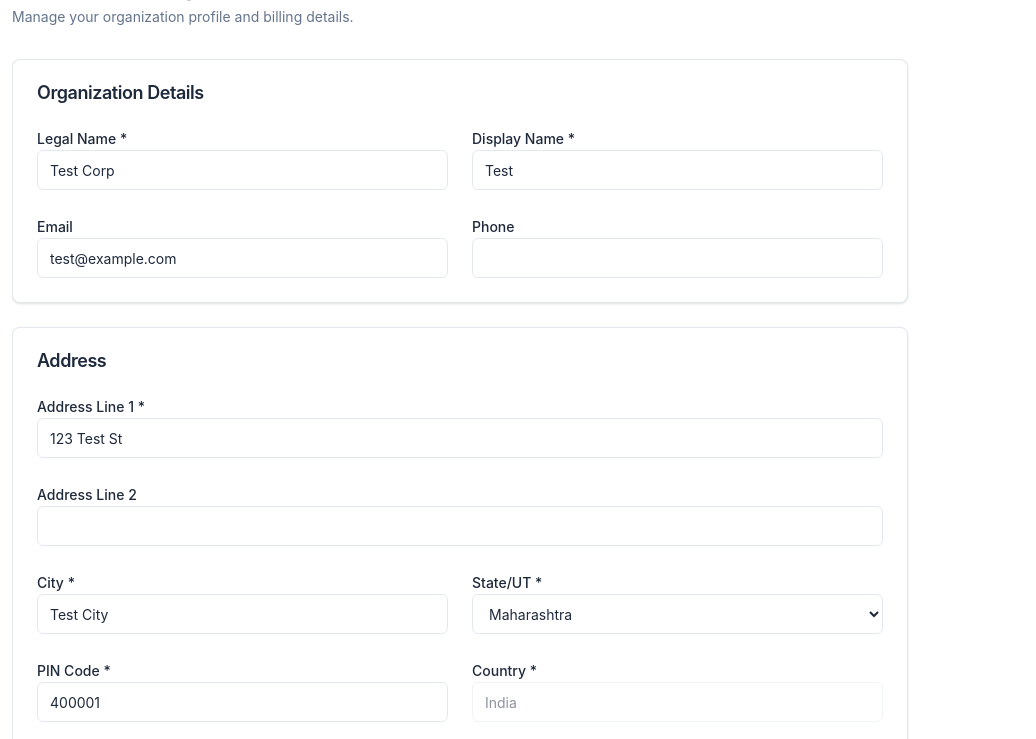
it: BusinessSettingsPage › shows validation errors for invalid client-side inputs
Clear the field labelled "Legal Name *": (242, 170) top-left (37, 150), bottom-right (448, 190)
(page scrolled)
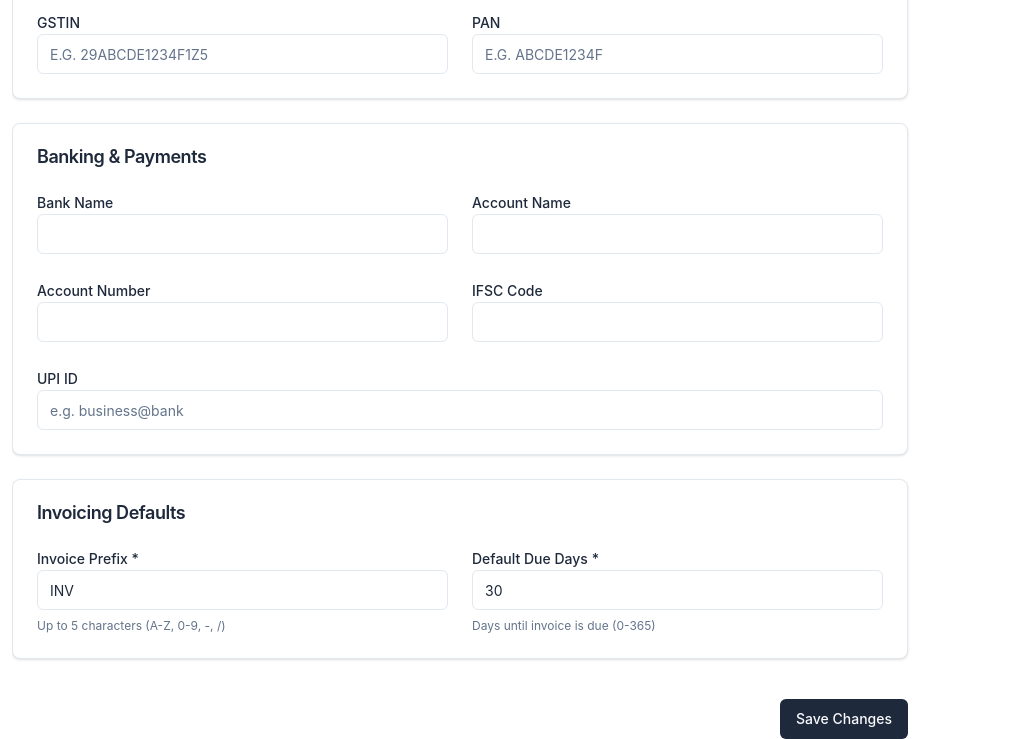
Now the button "Save Changes" is enabled
Click the button "Save Changes": (844, 719) top-left (780, 699), bottom-right (908, 738)
(page scrolled)
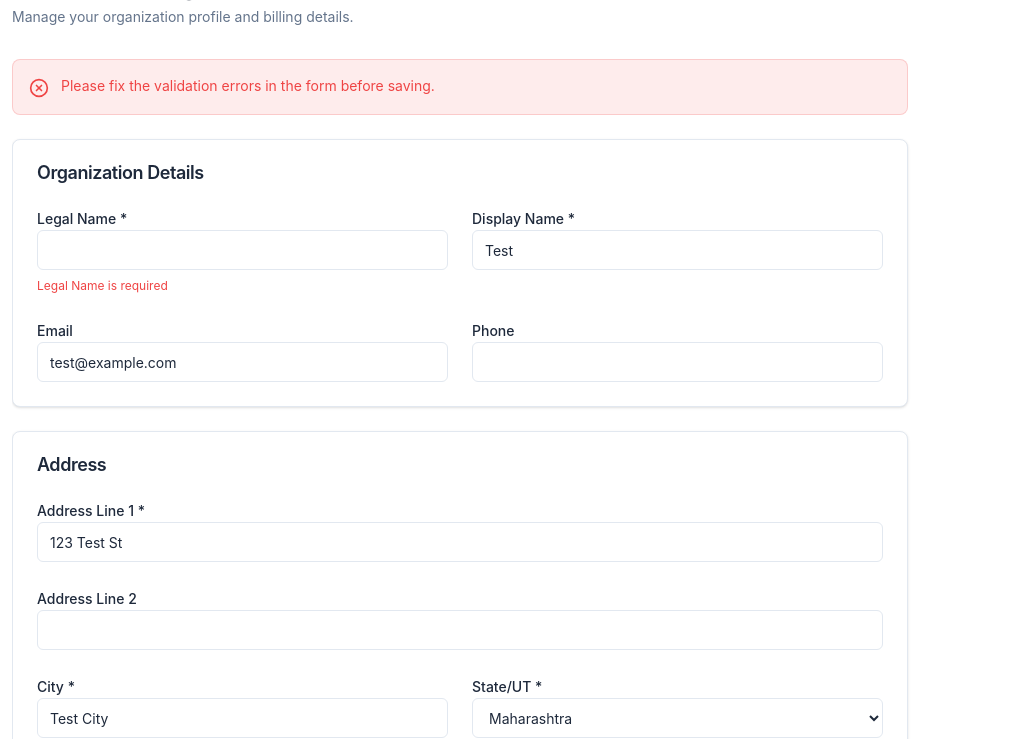
Now the text "Legal Name is required" is shown, box top-left (37, 278), bottom-right (168, 293)
